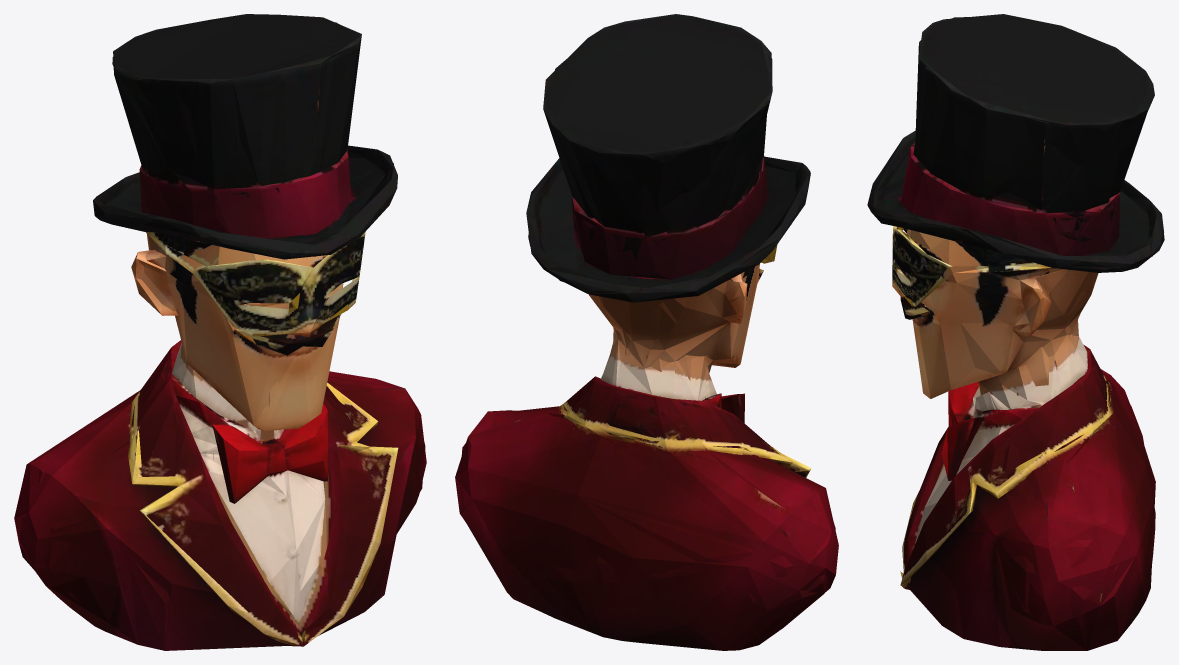
File: croupier.glb
3 renders of one model, left to right at view 1: azimuth 30°, elevation 25°; view 2: azimuth 150°, elevation 25°; view 3: azimuth 270°, elevation 25°, orthographic. The views are drawn at different scales.
Size of the model in its own units: 0.7228 by 1 by 0.4957.
Materials: 1 (1 with a texture image).
